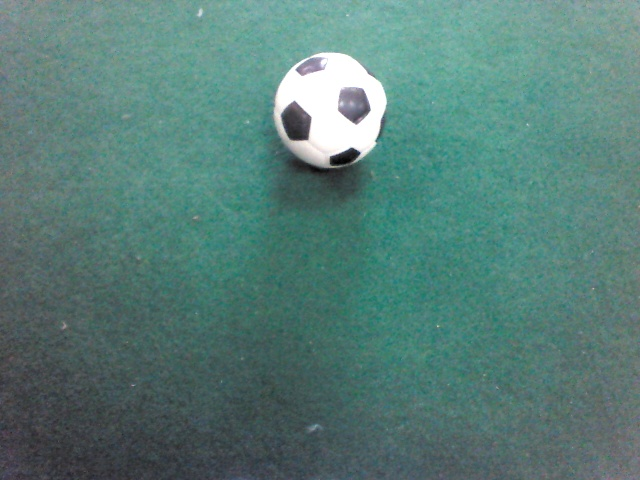ball: (273, 52, 386, 170)
